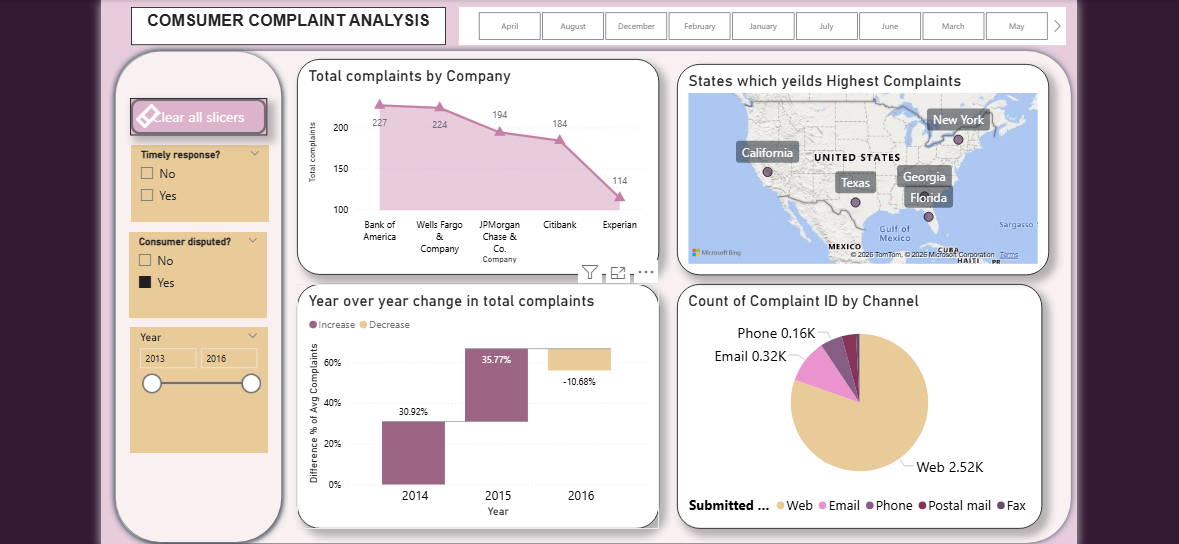

What the dashboard file says about the page in this screenshot:
{"tool":"powerbi","page":{"name":"Consumer complaints Analysis 2","canvas":[1280,720],"ordinal":1},"visuals":[{"type":"shape","box":[10.5,59,1269.5,661],"z":0},{"type":"shape","box":[10.3,59.1,235,660.7],"z":1000},{"type":"textbox","box":[39.3,9.2,413.1,49.8],"z":2000},{"type":"slicer","fields":{"Values":["Consumer_Complaints.Complaint Month"]},"box":[469.5,9.2,796.1,49.8],"z":3000},{"type":"slicer","fields":{"Values":["Consumer_Complaints.Timely response?"]},"box":[39.3,190.2,181,101],"z":4000},{"type":"slicer","fields":{"Values":["Consumer_Complaints.Consumer disputed?"]},"box":[36.7,304.3,181,112.8],"z":5000},{"type":"slicer","fields":{"Values":["Consumer_Complaints.Year"]},"box":[38,428.9,179.7,165.2],"z":6000},{"type":"pieChart","title":"Count of Complaint ID by Channel","fields":{"Category":["Consumer_Complaints.Submitted via"],"Y":["CountNonNull(Consumer_Complaints.Complaint ID)"]},"box":[755.4,372.5,478.7,321.3],"z":7000},{"type":"areaChart","fields":{"Category":["Consumer_Complaints.Company"],"Y":["Consumer_Complaints.Total complaints"]},"box":[257,77.4,474.8,283.3],"z":8000},{"type":"map","title":"States which yeilds Highest Complaints","fields":{"Category":["Consumer_Complaints.State Name"]},"box":[755.4,83.9,487.9,276.7],"z":9000},{"type":"waterfallChart","title":"Year over year change in total complaints","fields":{"Category":["Consumer_Complaints.Year"],"Y":["Consumer_Complaints.Difference % of average total complaints"]},"box":[257,372.5,474.8,321.3],"z":10000},{"type":"actionButton","box":[38,128.5,179.7,48.5],"z":11000}]}

Visuals, with their boxes in screenshot pixels (x1, y1, x2, y2):
shape: [left=97, top=42, right=1077, bottom=543]
shape: [left=97, top=43, right=278, bottom=543]
textbox: [left=119, top=4, right=438, bottom=42]
slicer - Consumer_Complaints.Complaint Month: [left=451, top=4, right=1066, bottom=42]
slicer - Consumer_Complaints.Timely response?: [left=119, top=144, right=259, bottom=222]
slicer - Consumer_Complaints.Consumer disputed?: [left=117, top=232, right=257, bottom=319]
slicer - Consumer_Complaints.Year: [left=118, top=328, right=257, bottom=455]
"Count of Complaint ID by Channel" pieChart: [left=672, top=284, right=1041, bottom=532]
areaChart - Consumer_Complaints.Company x Consumer_Complaints.Total complaints: [left=287, top=57, right=654, bottom=275]
"States which yeilds Highest Complaints" map: [left=672, top=62, right=1049, bottom=275]
"Year over year change in total complaints" waterfallChart: [left=287, top=284, right=654, bottom=532]
actionButton: [left=118, top=96, right=257, bottom=134]
